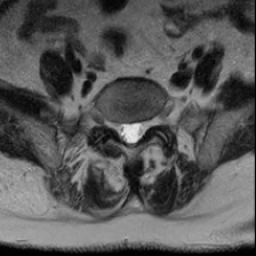CCS_normal: (125, 115, 135, 152)
LFS_normal: (145, 110, 154, 136)
LLS_normal: (135, 115, 145, 143)
RFS_normal: (109, 113, 117, 139)
RLS_normal: (116, 116, 125, 146)
